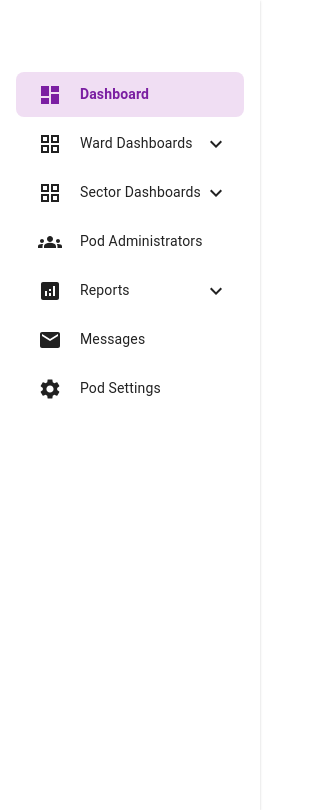
Test: Sidebar › submenu behavior › should close other submenus when opening a different one
The image size is (320, 810).
Note: Expand Ward Dashboards
Click the button "Ward Dashboards" at (133, 144), box [38,132,228,156]
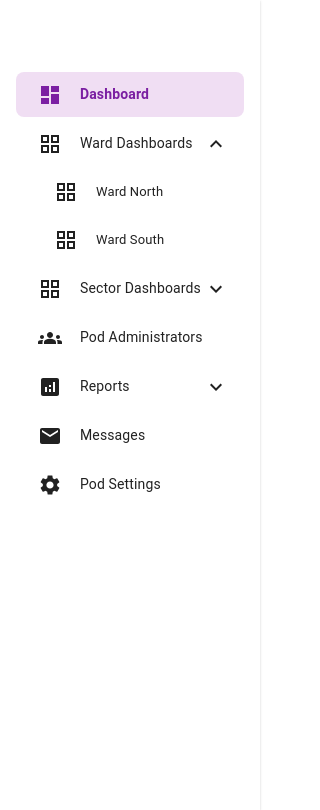
Expected: the text "Ward North" is shown, [96,184,163,199]
Note: Expand Sector Dashboards
Click the button "Sector Dashboards" at (133, 288), box [38,276,228,300]
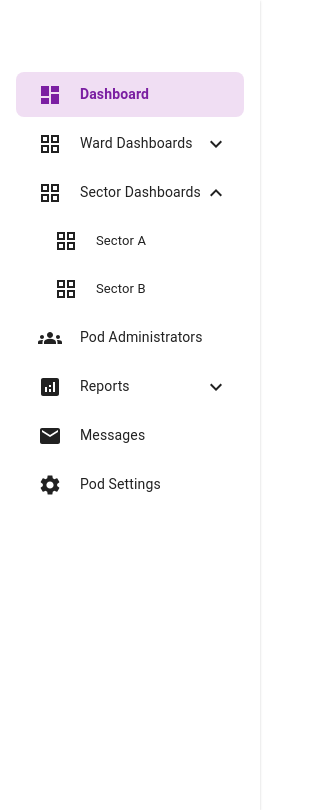
Expected: the text "Sector A" is shown, [96,233,146,248]
Expected: the link "Ward North" is gone
